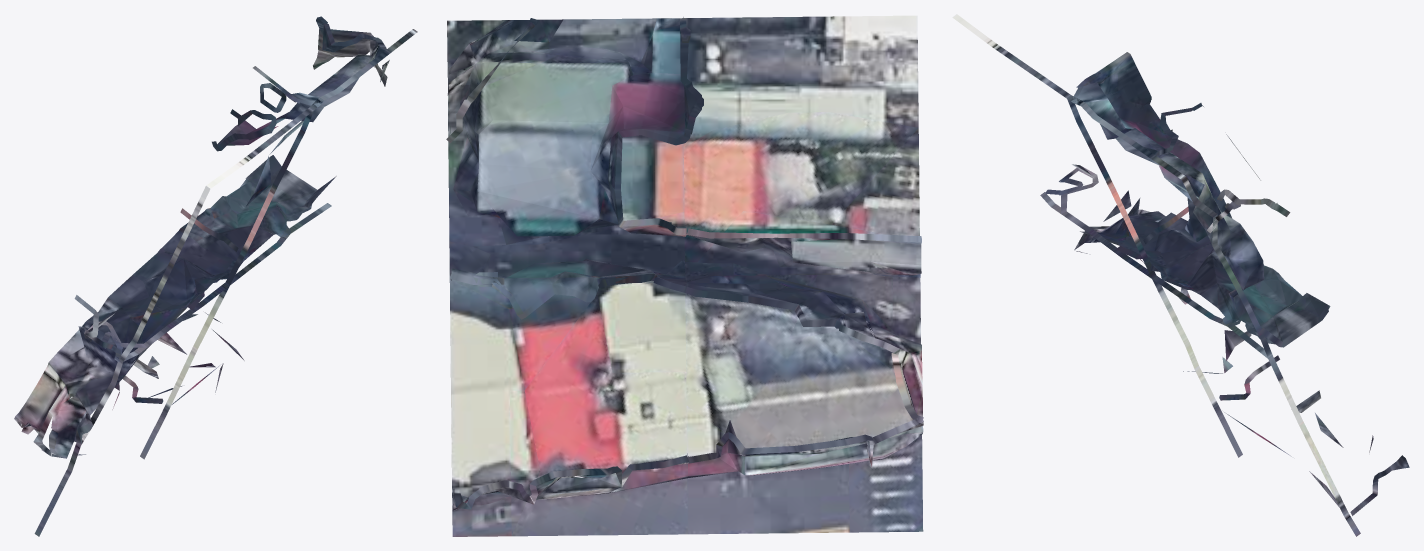
3 views of the same model, side by side, from view 1: azimuth 30°, elevation 25°; view 2: azimuth 150°, elevation 25°; view 3: azimuth 270°, elevation 25° (orthographic). The views are drawn at different scales.
Size of the model in its own units: 39.17 by 37.43 by 35.63.
2 materials, 2 textured.
